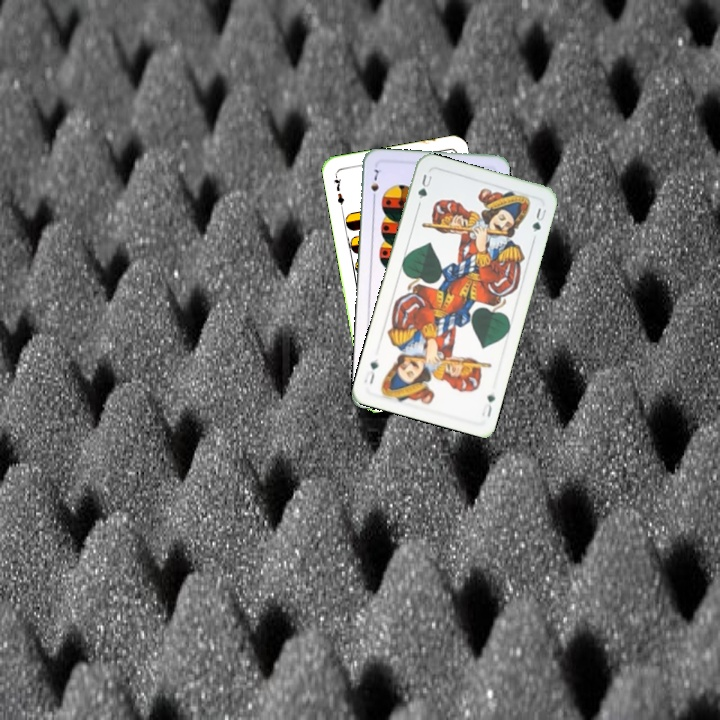E7: (330, 170, 347, 211)
GU: (414, 170, 435, 202), (478, 391, 498, 420)
S7: (367, 164, 383, 204)
